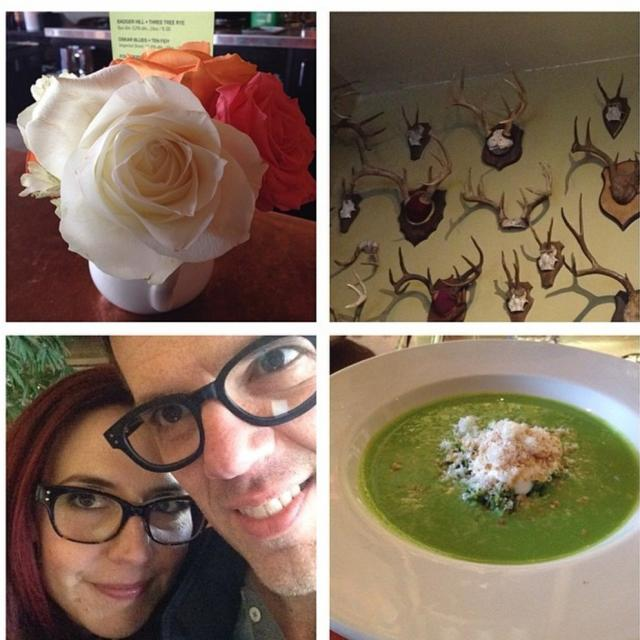Glasses: (103, 335, 317, 475), (32, 484, 206, 547)
